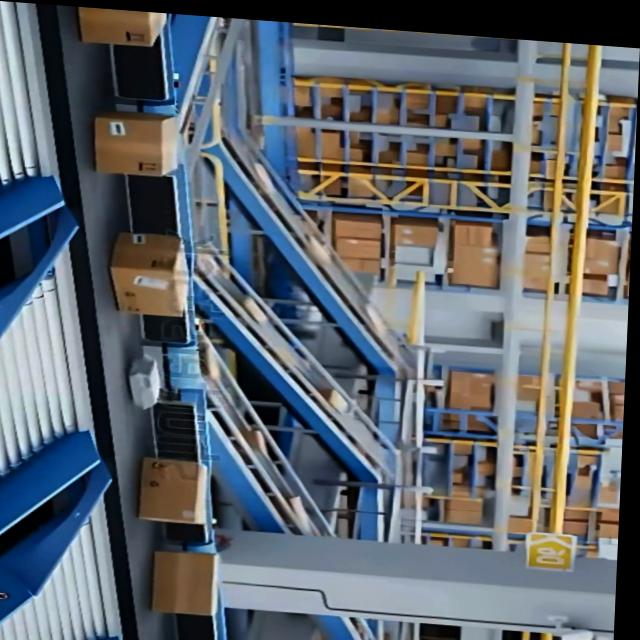product 1: (107, 230, 193, 318), (137, 456, 210, 525), (150, 548, 222, 617)
product 2: (126, 354, 164, 411)
